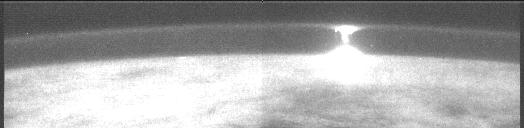positive: (333, 24, 363, 46)
